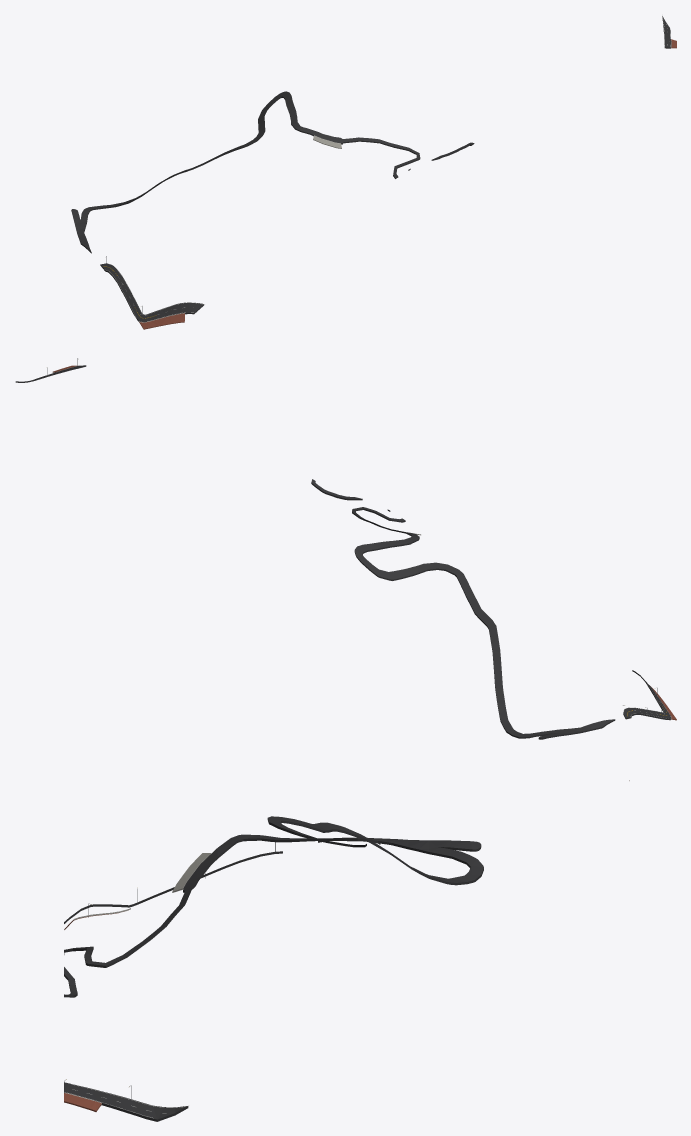
The picture shows the model from 3 angles, top to bottom: view 1: azimuth 30°, elevation 25°; view 2: azimuth 150°, elevation 25°; view 3: azimuth 270°, elevation 25°; orthographic projection. The views are drawn at different scales.
Size of the model in its own units: 589 by 180 by 268.
